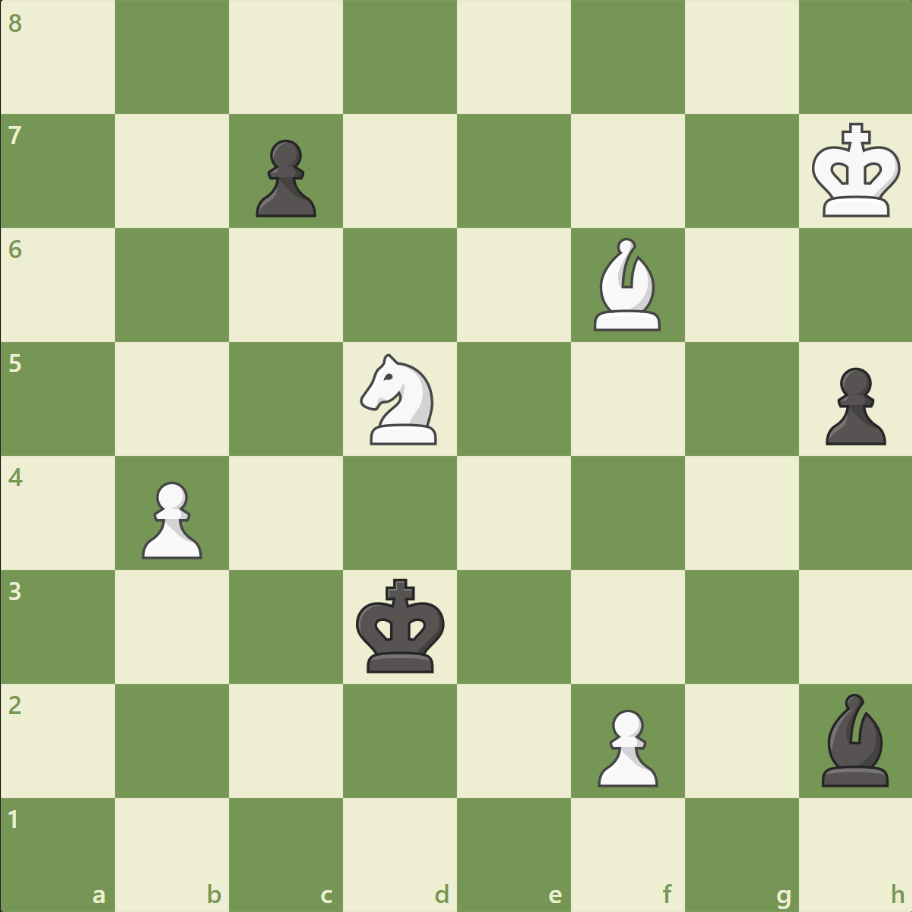B: (585, 233, 669, 336)
K: (806, 117, 906, 225)
N: (351, 348, 449, 450)
P: (133, 473, 208, 564), (588, 700, 662, 791)
b: (812, 687, 896, 790)
k: (351, 571, 451, 679)
p: (247, 132, 322, 223), (815, 359, 889, 450)
